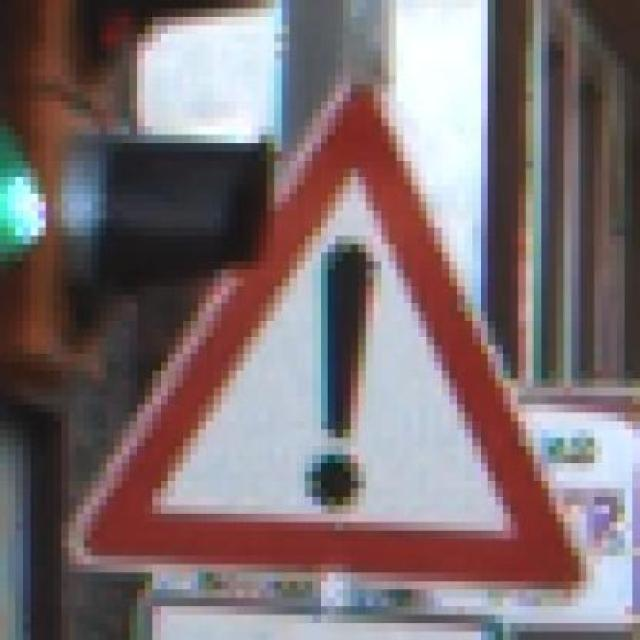Attention Please-: (61, 59, 610, 606)
